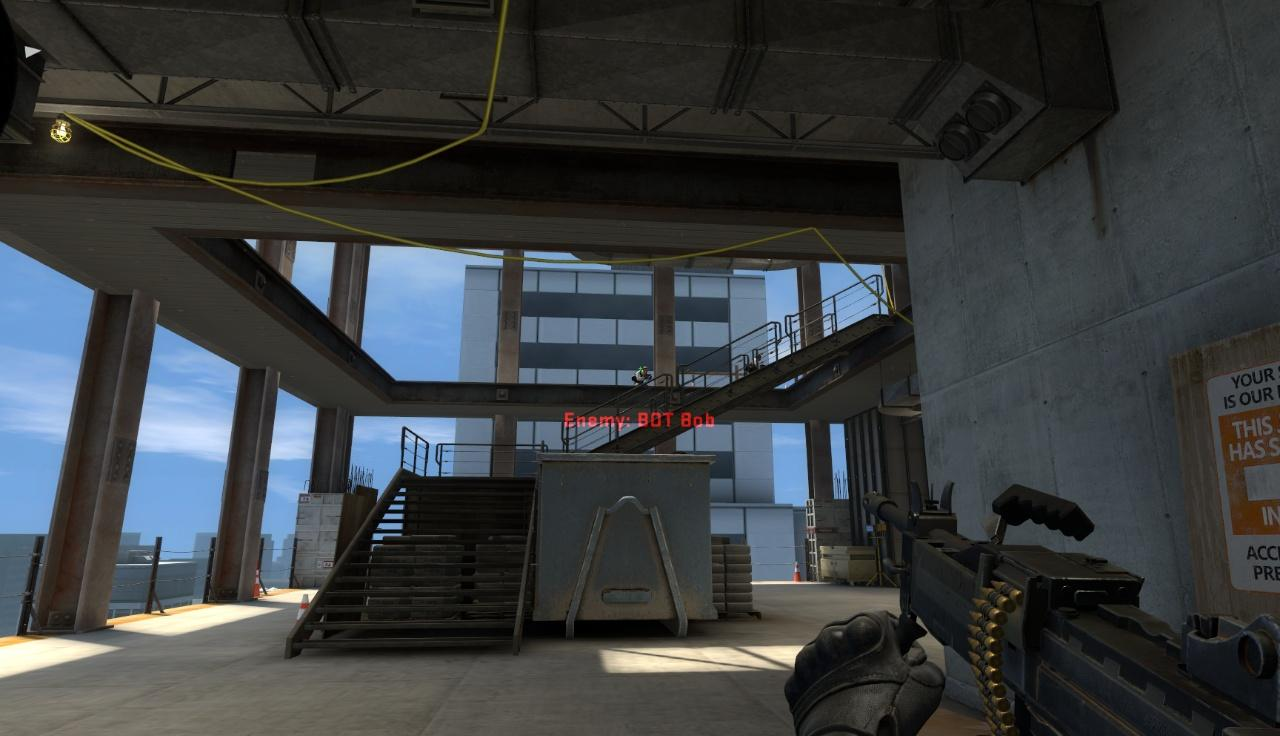rifle: (808, 475, 1270, 733)
tt: (632, 364, 650, 386), (746, 352, 763, 375)
tthead: (642, 365, 648, 373), (756, 354, 761, 361)
